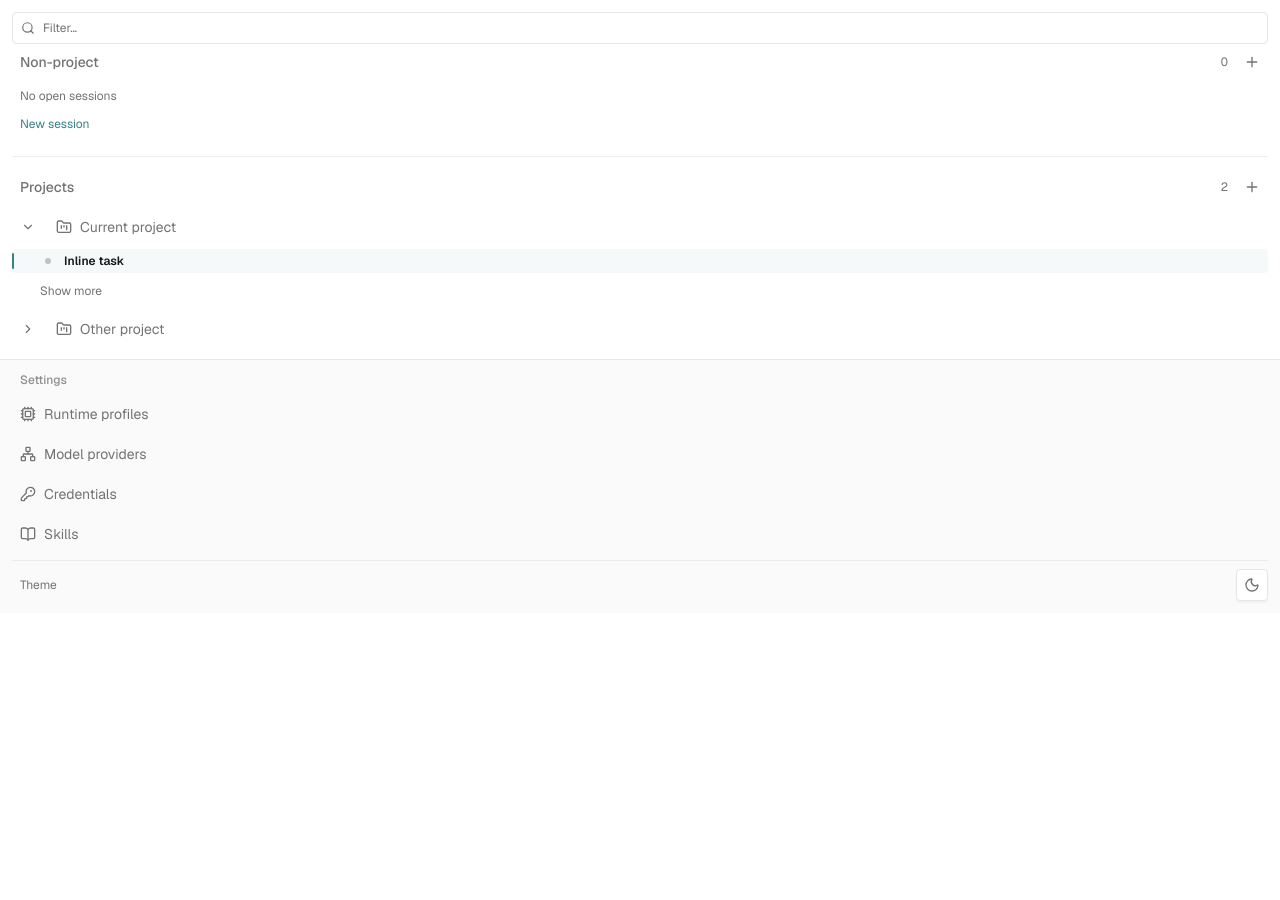
Test: WorkspaceSidebar › loads the full task list only when a non-current project expands
Expected: the element "Current project Inline task Show more" is shown, [12,209,1268,307]
What coordinates should you click on to do the following:
click the button named "expand other project"
I would click on:
 (28, 329)
Its box is [12,313,44,345].
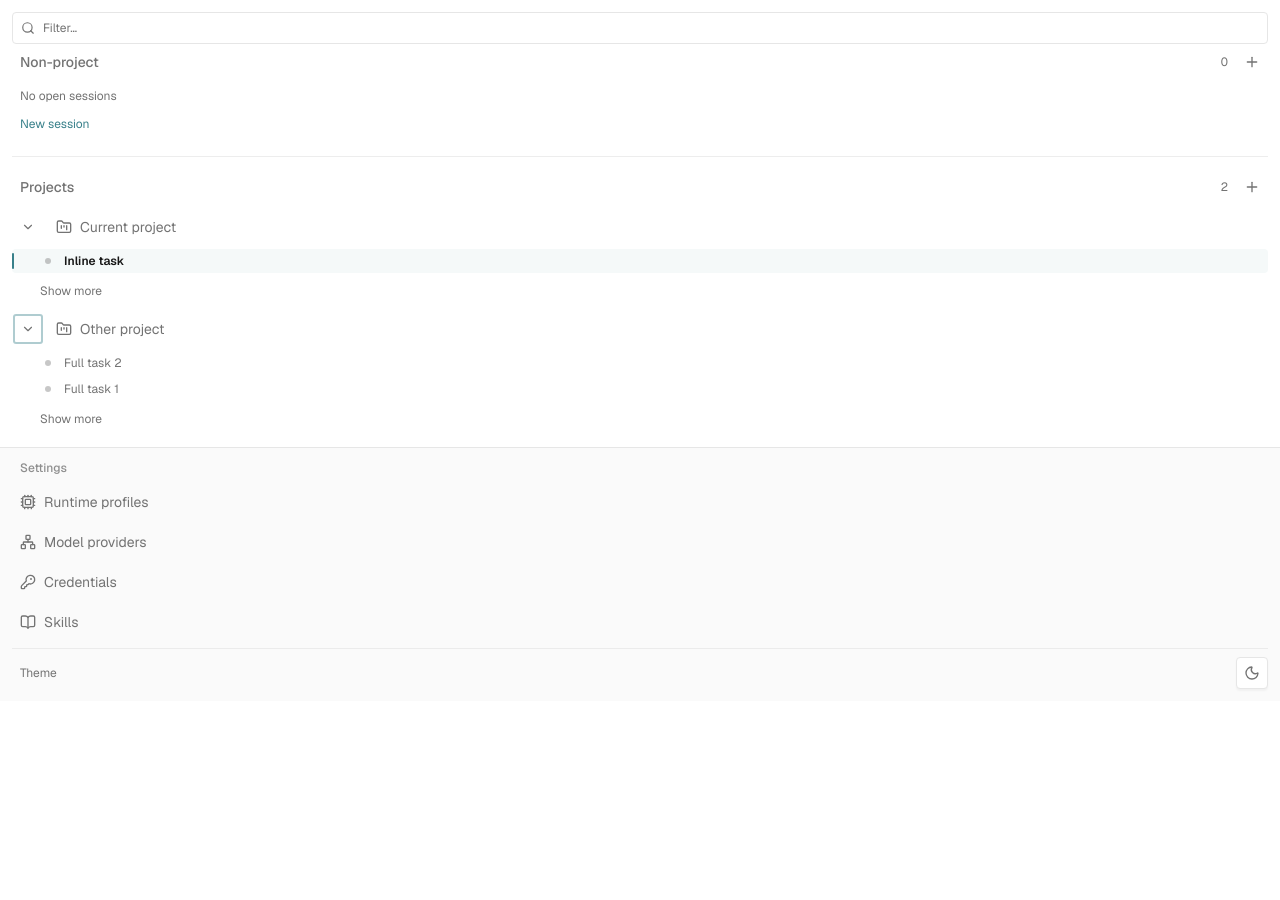
Expected: the link "Full task 1" is shown, [39,381,136,404]
Expected: the link "Full task 2" is shown, [39,355,136,378]
